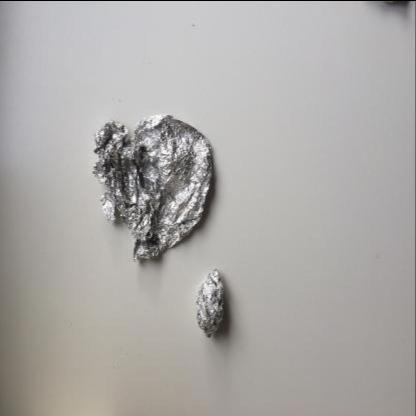Aluminium foil: (93, 114, 213, 261), (196, 266, 224, 338)
